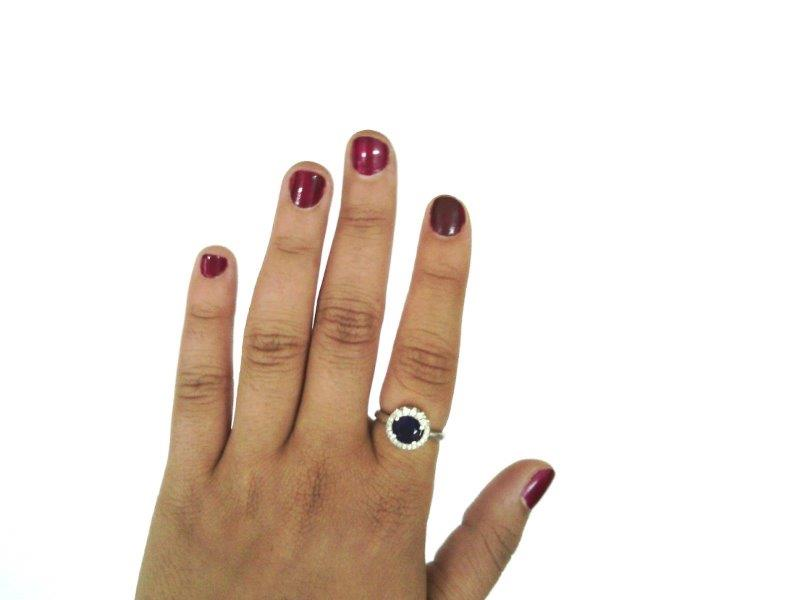hand: (135, 130, 555, 598)
